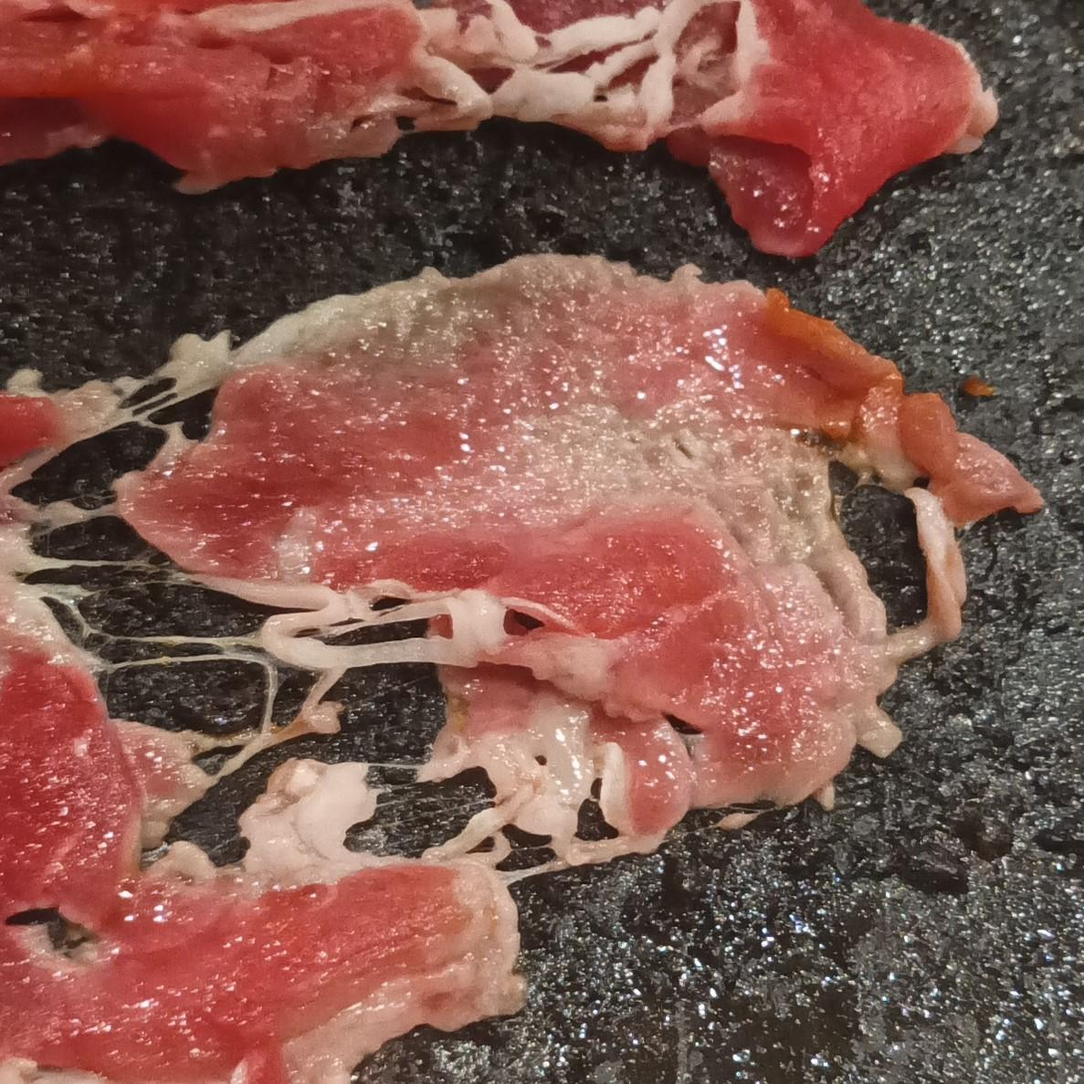Undercooked: (112, 256, 964, 863), (0, 521, 524, 1083), (0, 0, 997, 257)
